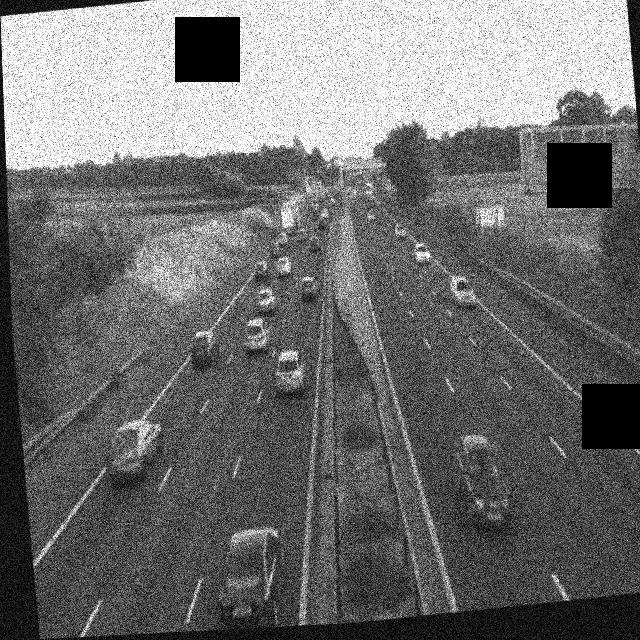car: (210, 524, 289, 630), (453, 431, 513, 533), (104, 418, 166, 484), (273, 347, 307, 395), (190, 329, 223, 368), (242, 318, 274, 354), (449, 273, 477, 309), (634, 446, 640, 589), (255, 285, 277, 315), (298, 275, 317, 301), (412, 241, 430, 265), (274, 255, 292, 279), (253, 260, 269, 281), (307, 234, 321, 252), (271, 235, 283, 253), (394, 222, 406, 238), (296, 227, 308, 242), (317, 215, 327, 230), (365, 209, 375, 221), (350, 190, 358, 200)
truck: (278, 198, 302, 237)
